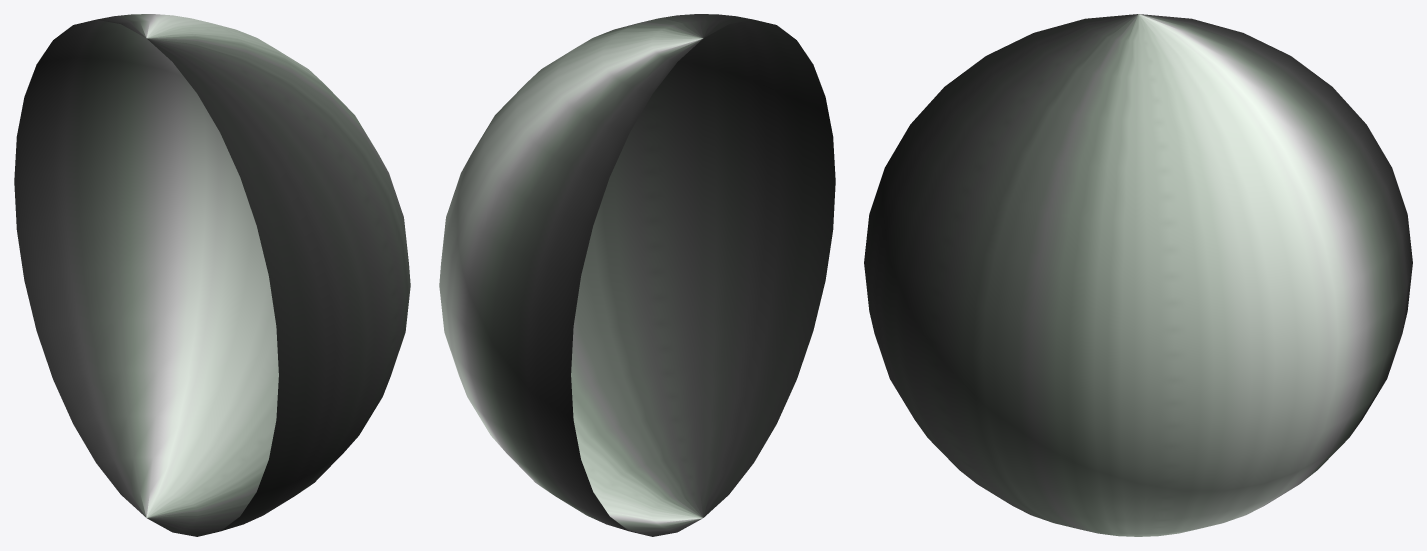
The model's file is banqiu.FBX.
3 renders of one model, left to right at view 1: azimuth 30°, elevation 25°; view 2: azimuth 150°, elevation 25°; view 3: azimuth 270°, elevation 25°, orthographic. The views are drawn at different scales.
Parts seen in each view (by area): view 1: Sphere001; view 2: Sphere001; view 3: Sphere001.
Boxes of the visible parts, x1,y1,x2,y2 form: Sphere001: (14, 14, 410, 536); Sphere001: (439, 14, 835, 536); Sphere001: (864, 14, 1412, 536).
Bounding box in the file's own units: 20.7 × 41.39 × 41.39.
1 material, 1 textured.
